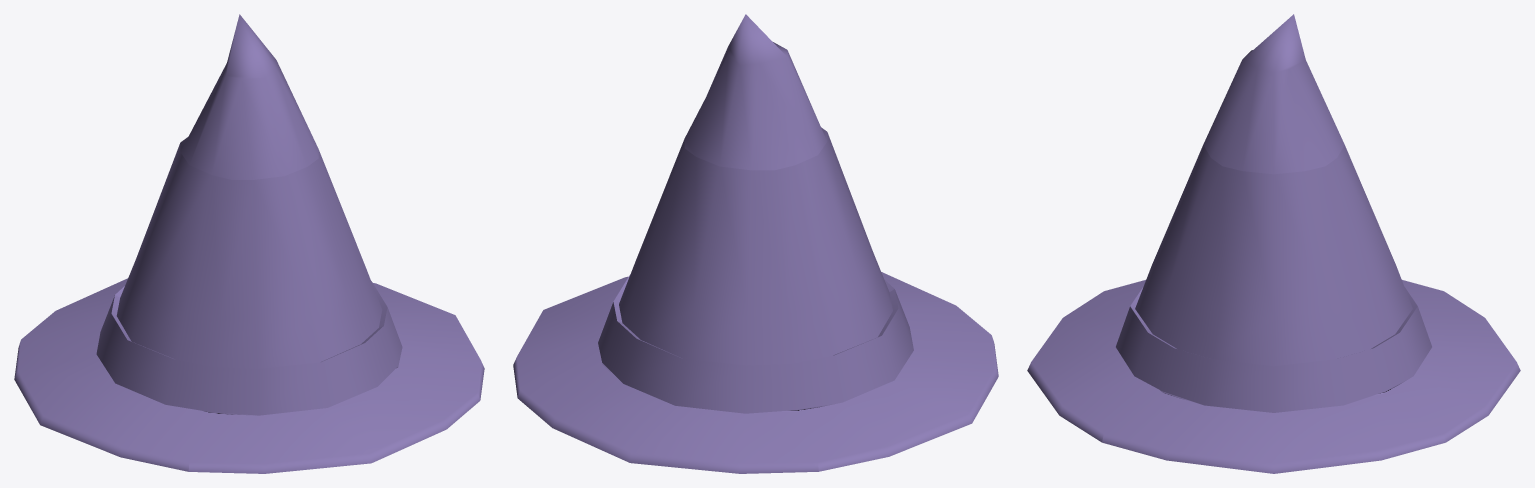
Rendered from wizard_hat.obj.
3 renders of one model, left to right at view 1: azimuth 30°, elevation 25°; view 2: azimuth 150°, elevation 25°; view 3: azimuth 270°, elevation 25°, orthographic. The views are drawn at different scales.
Visible parts, largest first — view 1: pCube2; view 2: pCube2; view 3: pCube2.
Part boxes in pixels (<box>): pCube2: <box>14,14,484,473</box>; pCube2: <box>513,14,998,473</box>; pCube2: <box>1027,14,1520,473</box>.
Bounding box in the file's own units: 6.39 × 5.15 × 6.45.
